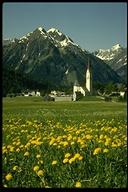flower: (1, 117, 124, 163)
house: (50, 57, 93, 100)
mountain: (4, 25, 126, 83)
sky: (72, 4, 124, 40)
